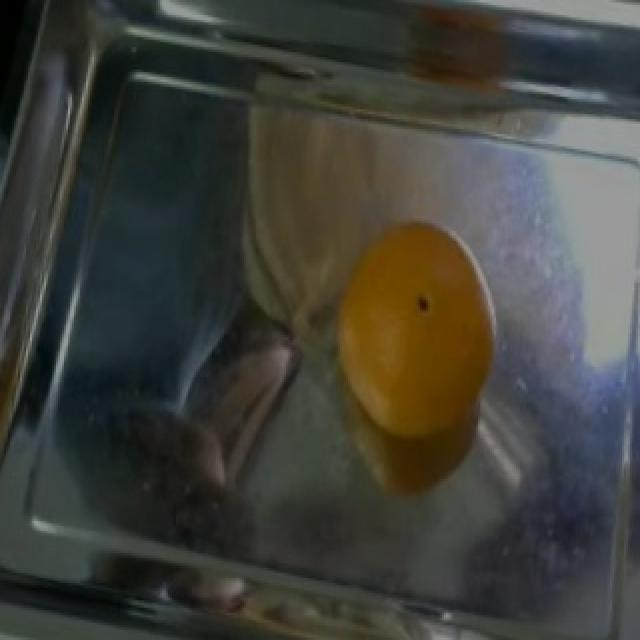Fruit: (212, 84, 448, 355), (320, 213, 504, 459)
